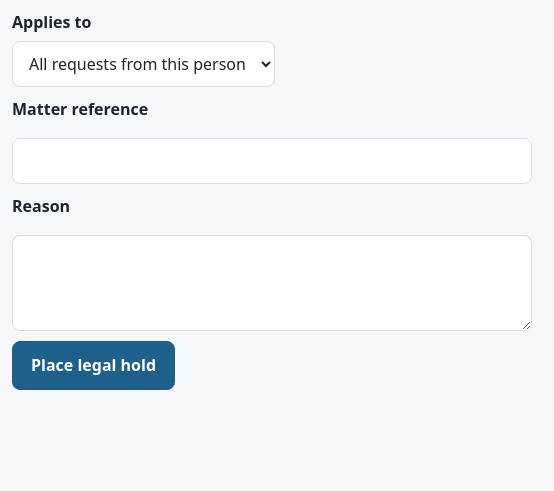
Test: LegalHoldForm › defaults to every request from the person and sends trimmed values
The image size is (554, 491).
In the field labelled "Matter reference": (272, 161) [12,138,532,184], type "  LIT-2026-014 "
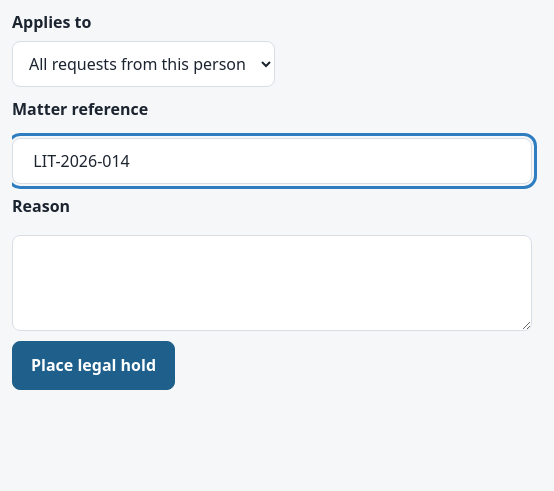
In the text box labelled "Reason": (272, 283) [12,235,532,331], type " Pending litigation hold. "
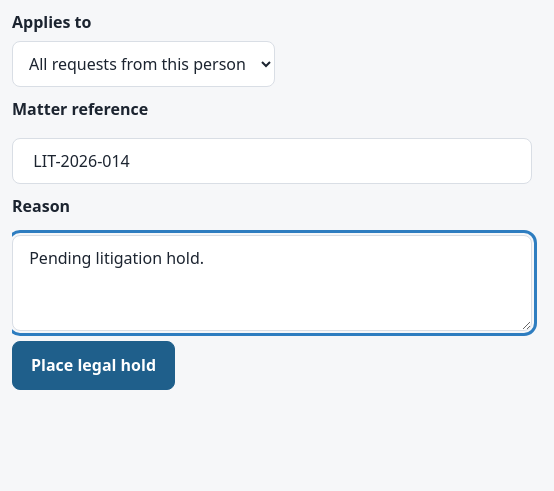
Click the button "Place legal hold": (94, 366) [12,341,175,390]
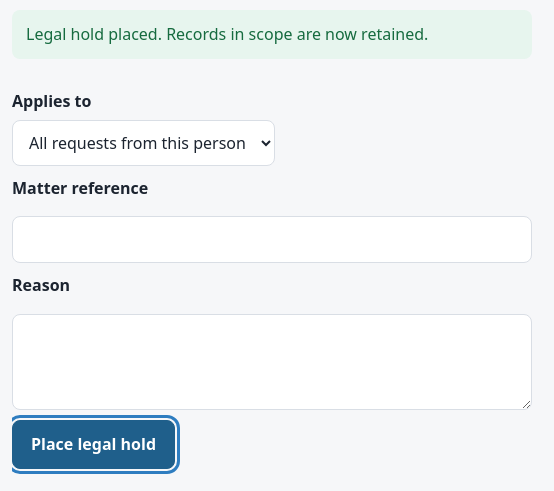
Expected: the message shows "Legal hold placed", [26,23,428,45]
Expected: the field labelled "Matter reference" is empty, [12,216,532,263]
